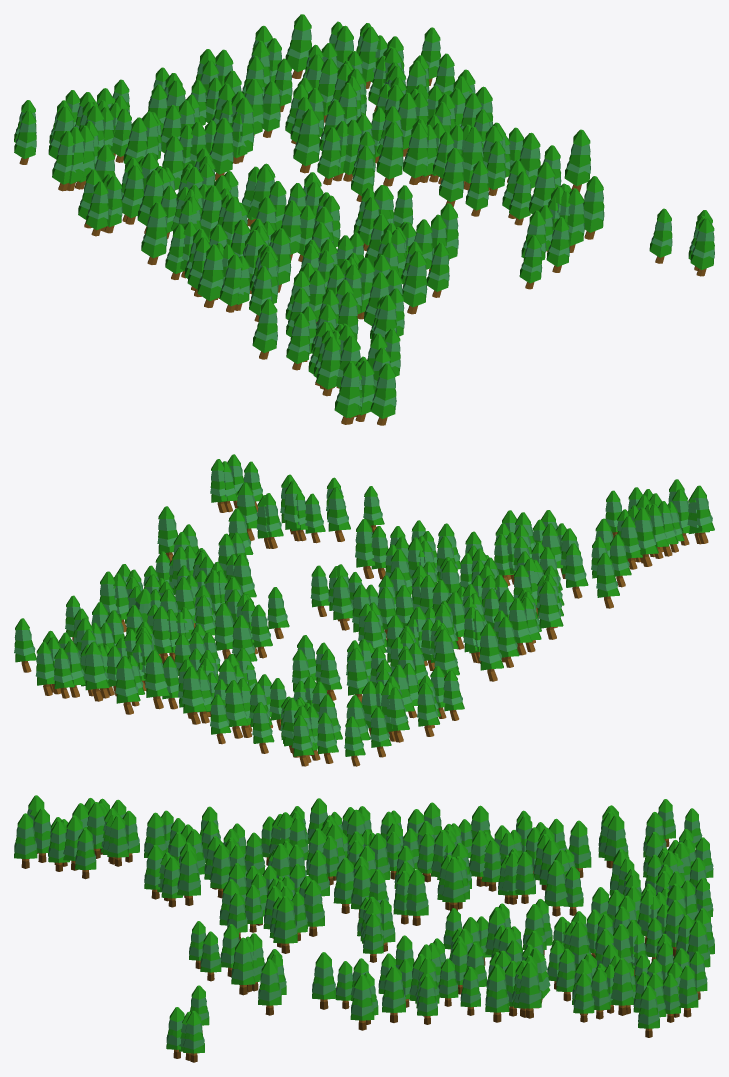
File: tree3.gltf
The picture shows the model from 3 angles, top to bottom: view 1: azimuth 30°, elevation 25°; view 2: azimuth 150°, elevation 25°; view 3: azimuth 270°, elevation 25°; orthographic projection. The views are drawn at different scales.
Parts seen in each view (by area): view 1: tree 3.212, tree 3.192, tree 3.163, tree 3.009, tree 3.008, tree 3.001, tree 3.296, tree 3.031, tree 3.233, tree 3.221, tree 3.276, tree 3.007 (+51 smaller); view 2: tree 3.233, tree 3.210, tree 3.008, tree 3.208, tree 3.009, tree 3.185, tree 3.161, tree 3.193, tree 3.007, tree 3.001, tree 3.006, tree 3.220 (+60 smaller); view 3: tree 3.193, tree 3.288, tree 3.261, tree 3.286, tree 3.251, tree 3.296, tree 3.276, tree 3.291, tree 3.275, tree 3.131, tree 3.158, tree 3.031 (+83 smaller).
Part boxes in pixels (<box>): tree 3.212: <box>376,121,403,186</box>; tree 3.192: <box>293,108,319,173</box>; tree 3.163: <box>402,250,427,314</box>; tree 3.009: <box>141,202,167,264</box>; tree 3.008: <box>197,244,223,307</box>; tree 3.001: <box>334,361,360,424</box>; tree 3.296: <box>564,129,590,192</box>; tree 3.031: <box>370,363,396,425</box>; tree 3.233: <box>285,14,311,78</box>; tree 3.221: <box>403,123,428,184</box>; tree 3.276: <box>583,176,604,239</box>; tree 3.007: <box>252,299,277,359</box>; tree 3.233: <box>84,641,109,701</box>; tree 3.210: <box>115,655,140,714</box>; tree 3.008: <box>538,581,563,639</box>; tree 3.208: <box>145,649,169,709</box>; tree 3.009: <box>479,623,503,681</box>; tree 3.185: <box>182,666,206,724</box>; tree 3.161: <box>225,680,248,738</box>; tree 3.193: <box>355,518,375,578</box>; tree 3.007: <box>596,552,619,608</box>; tree 3.001: <box>690,485,714,543</box>; tree 3.006: <box>634,507,658,566</box>; tree 3.220: <box>327,486,350,541</box>; tree 3.193: <box>273,896,297,953</box>; tree 3.288: <box>485,965,509,1022</box>; tree 3.261: <box>312,952,335,1009</box>; tree 3.286: <box>382,965,405,1022</box>; tree 3.251: <box>231,937,255,995</box>; tree 3.296: <box>350,974,374,1030</box>; tree 3.276: <box>258,959,281,1015</box>; tree 3.291: <box>517,961,541,1018</box>; tree 3.275: <box>610,958,634,1015</box>; tree 3.131: <box>177,849,200,905</box>; tree 3.158: <box>405,869,428,925</box>; tree 3.031: <box>14,813,37,868</box>.
Size of the model in its own units: 18.31 by 3.29 by 25.63.
